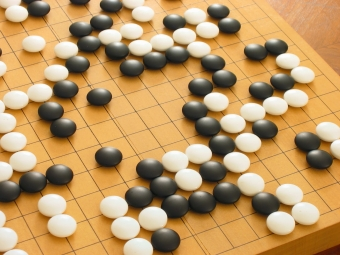black: (252, 191, 281, 217), (188, 190, 217, 215), (125, 185, 155, 208), (251, 118, 278, 140), (136, 159, 164, 180), (143, 50, 169, 71), (249, 81, 274, 101)
crossing: (130, 105, 143, 118), (82, 163, 94, 177), (155, 100, 168, 112), (230, 242, 242, 253), (255, 233, 266, 243), (319, 69, 328, 79), (306, 55, 314, 64)
white: (46, 213, 77, 239), (173, 167, 203, 192), (223, 152, 251, 174), (43, 64, 71, 82), (172, 27, 198, 45)
